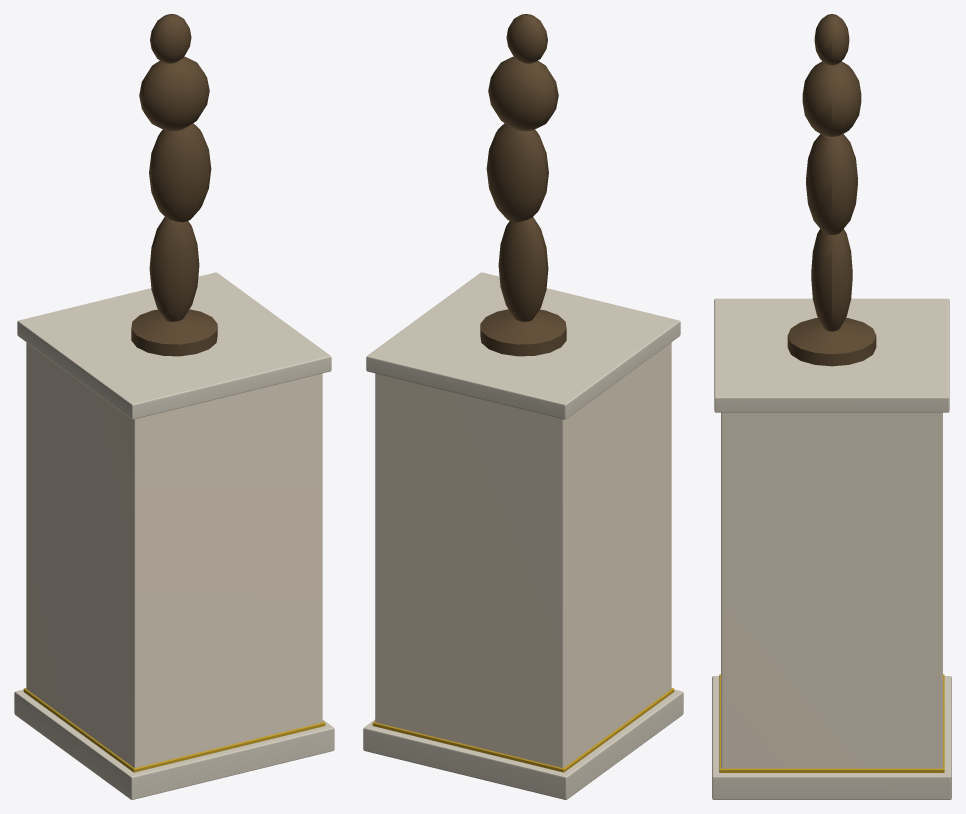
File: prop_plinth_bronze_a.glb
3 views of the same model, side by side, from view 1: azimuth 30°, elevation 25°; view 2: azimuth 150°, elevation 25°; view 3: azimuth 270°, elevation 25° (orthographic).
Parts seen in each view (by area): view 1: Plinth; view 2: Plinth; view 3: Plinth.
Boxes of the visible parts, bbox=[...] form: Plinth: bbox=[14, 14, 334, 799]; Plinth: bbox=[363, 14, 683, 799]; Plinth: bbox=[712, 14, 951, 799].
Size of what is drawn, in the model's own units: 0.54 by 1.82 by 0.54.
